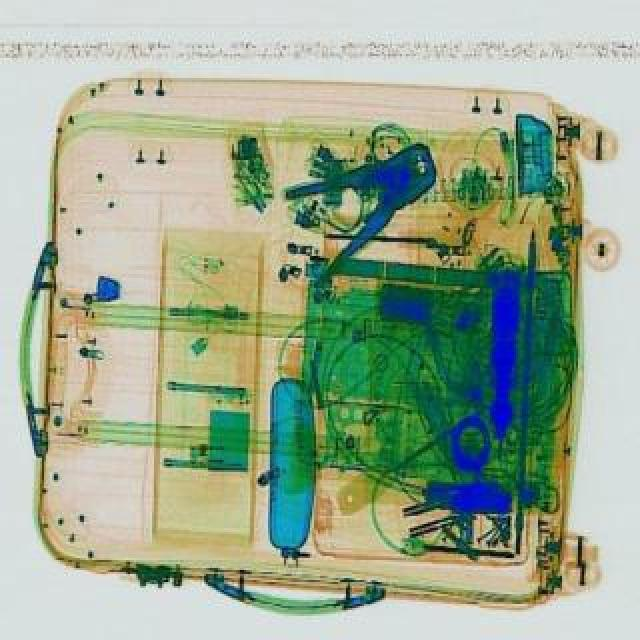wrench: (272, 134, 464, 282)
